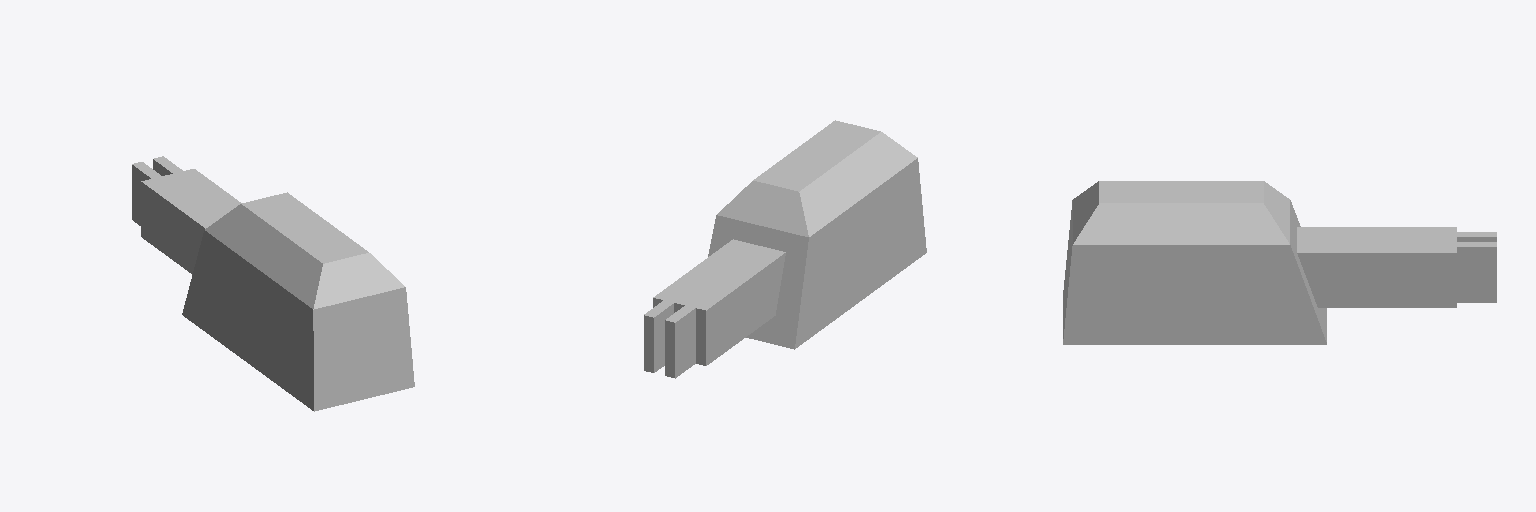
Rendered from Turret_head.obj.
3 renders of one model, left to right at view 1: azimuth 30°, elevation 25°; view 2: azimuth 150°, elevation 25°; view 3: azimuth 270°, elevation 25°, orthographic.
Parts seen in each view (by area): view 1: default; view 2: default; view 3: default.
Part boxes in pixels (left/top/right/bottom): default: left=132, top=156, right=414, bottom=411; default: left=644, top=120, right=926, bottom=378; default: left=1063, top=181, right=1496, bottom=344.
Bounding box in the file's own units: 1.3 × 1.57 × 4.83.